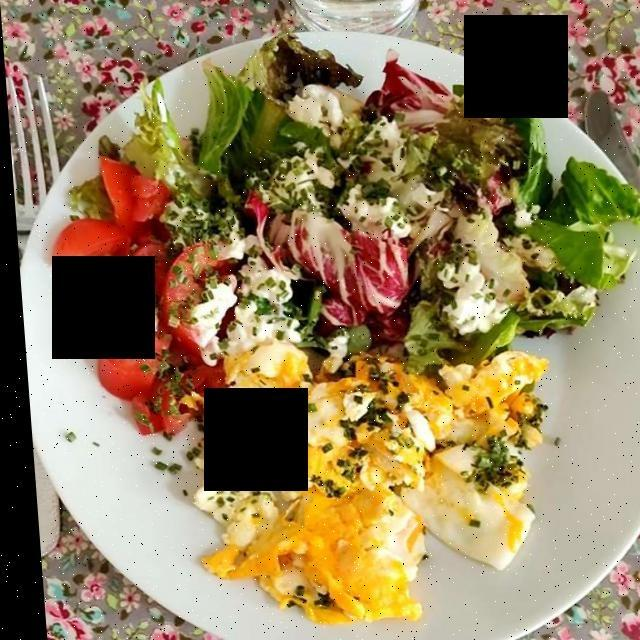cheese: (112, 260, 289, 347)
eggs: (181, 337, 541, 611)
salad: (127, 6, 619, 353)
tomato: (53, 150, 239, 430)
